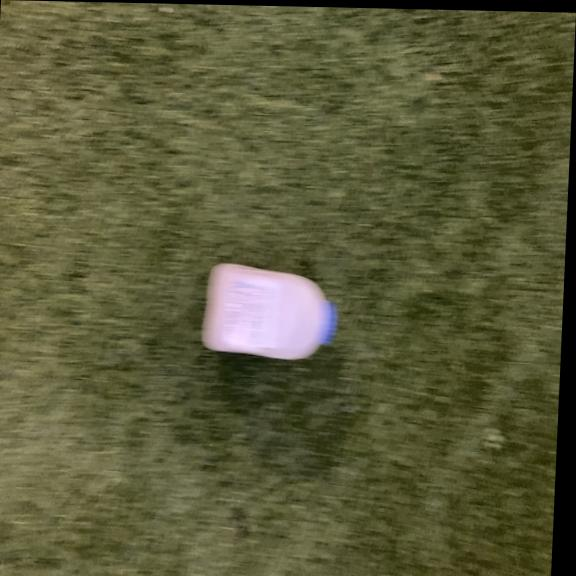Plastik: (195, 262, 339, 369)
